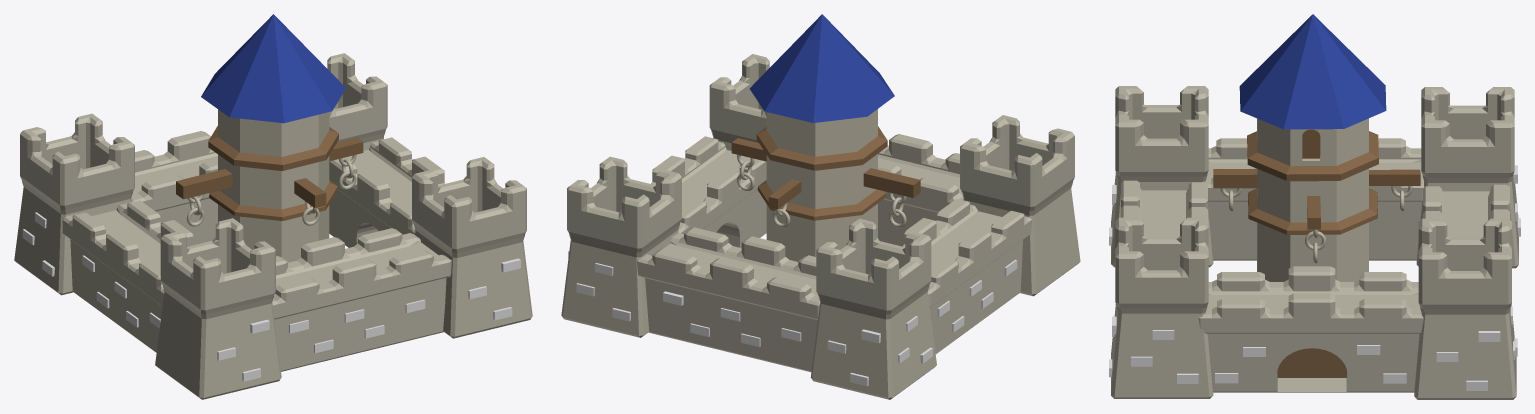
File: Castillo Low Poly.fbx
The picture shows the model from 3 angles, left to right: view 1: azimuth 30°, elevation 25°; view 2: azimuth 150°, elevation 25°; view 3: azimuth 270°, elevation 25°; orthographic projection. The views are drawn at different scales.
Visible parts, largest first — view 1: Castillo; view 2: Castillo; view 3: Castillo.
Part boxes in pixels (x1,y1,x2,y2): Castillo: [14, 14, 532, 399]; Castillo: [561, 14, 1080, 399]; Castillo: [1109, 14, 1520, 399].
Size of the model in its own units: 3032 by 2396 by 2990.
